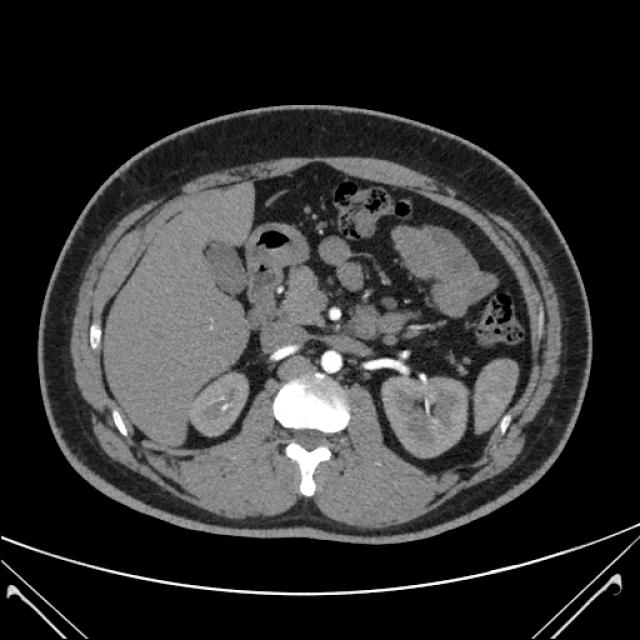Kidney: (0, 125, 610, 544)
